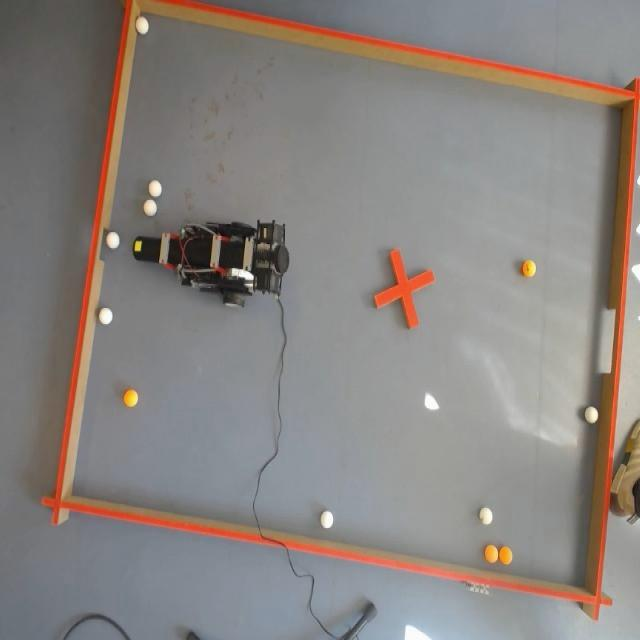orange-golf-balls: (124, 389, 138, 407), (500, 546, 512, 566), (485, 545, 498, 563), (523, 260, 536, 277)
robot: (132, 220, 290, 308)
robot-front: (133, 236, 160, 262)
white-golf-balls: (106, 232, 120, 250), (100, 308, 114, 326), (144, 200, 158, 217), (136, 17, 149, 35), (585, 406, 598, 424), (321, 511, 334, 528), (480, 508, 492, 526), (149, 181, 162, 197)
